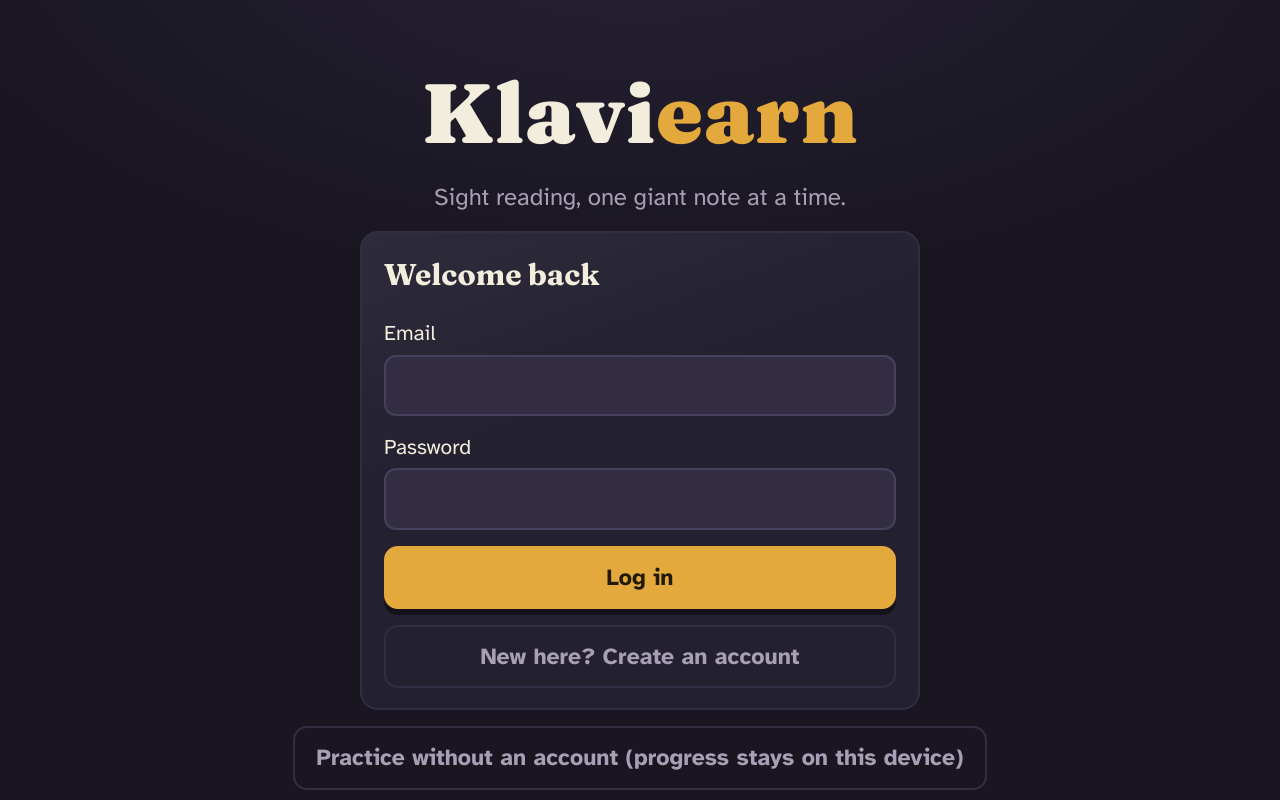
Test: choosing how to start › enters guest mode on request
The width and height of the screenshot is (1280, 800).
Click the button "Practice without an account (progress stays on this device)": point(640, 758) [293,726,987,790]
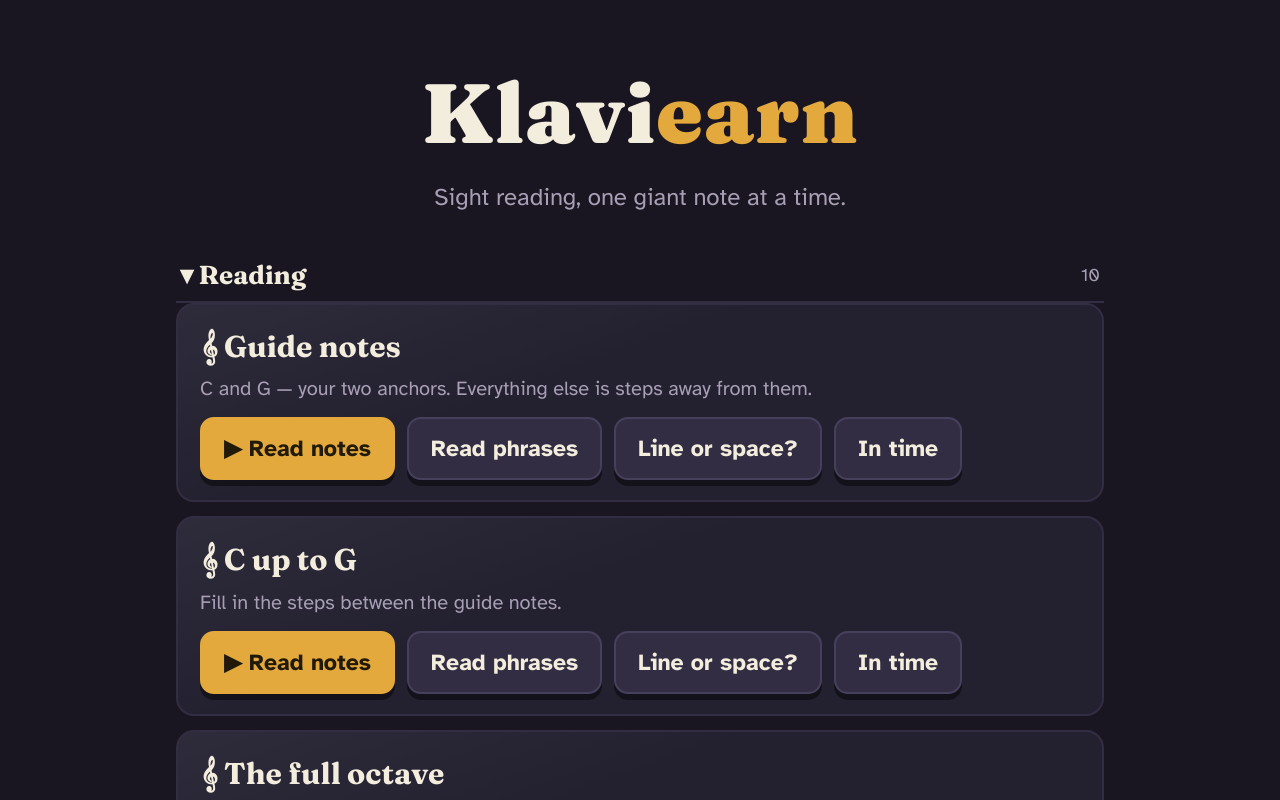
Result: the heading "𝄞 Guide notes" is shown at [200,325,401,368]
